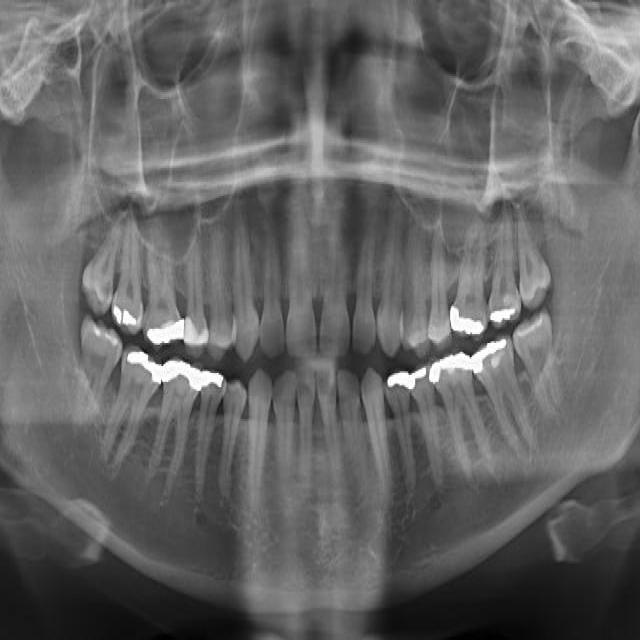dolgu: (431, 342, 474, 396), (162, 348, 201, 407), (472, 331, 512, 386), (139, 301, 186, 346), (125, 341, 163, 396), (446, 294, 487, 337), (197, 357, 228, 404), (112, 288, 144, 332), (488, 288, 522, 328), (385, 363, 412, 410), (408, 354, 434, 401)
